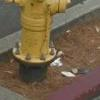Hydrant: (8, 0, 70, 79)
